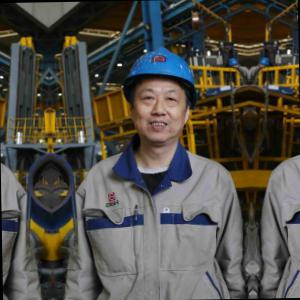helmet: (117, 41, 207, 153)
